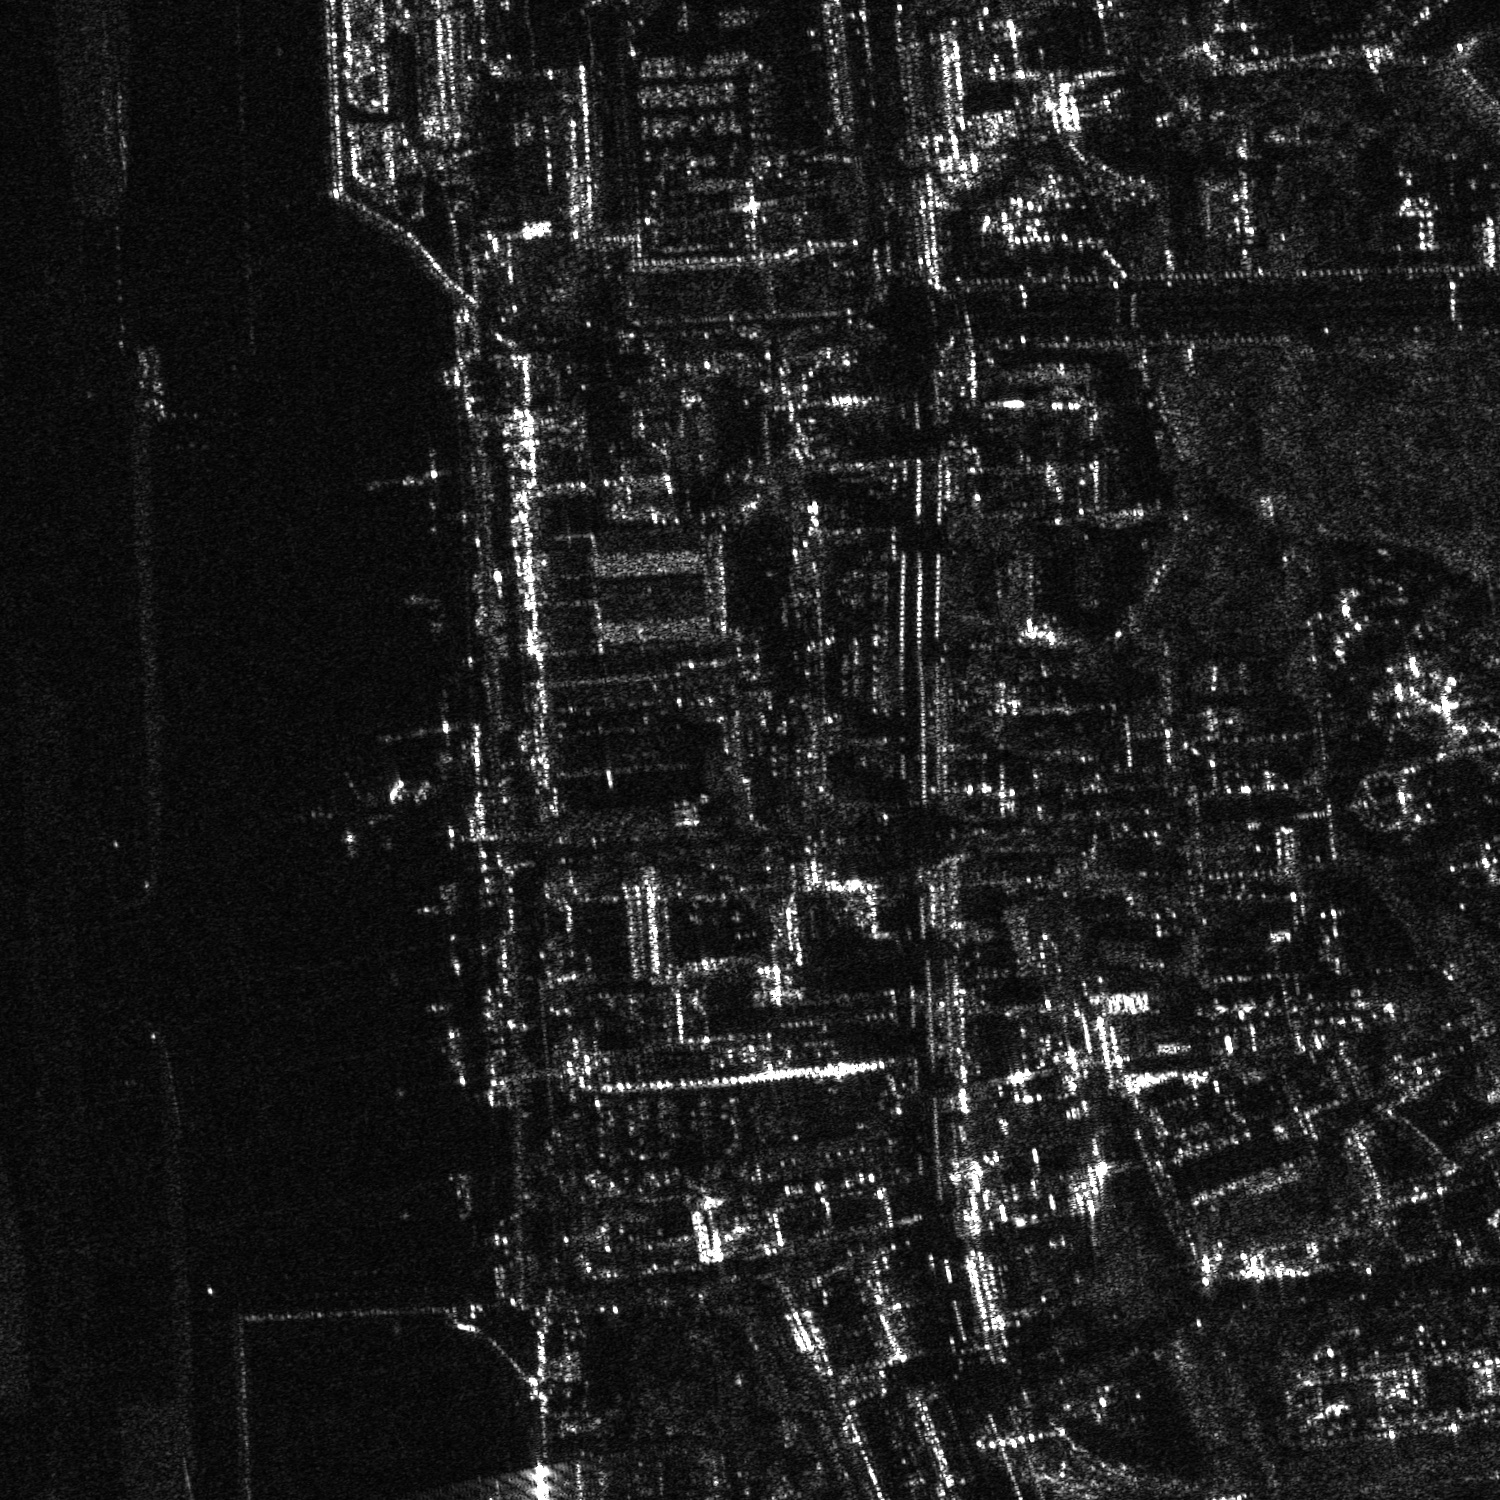A320/321: (379, 691, 468, 758)
other: (361, 434, 463, 532), (299, 773, 398, 854)
